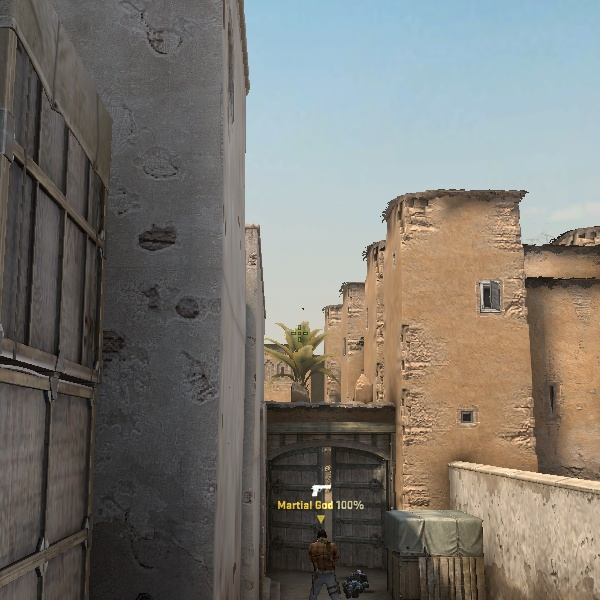t_body: (302, 528, 340, 598)
t_head: (316, 529, 329, 542)
